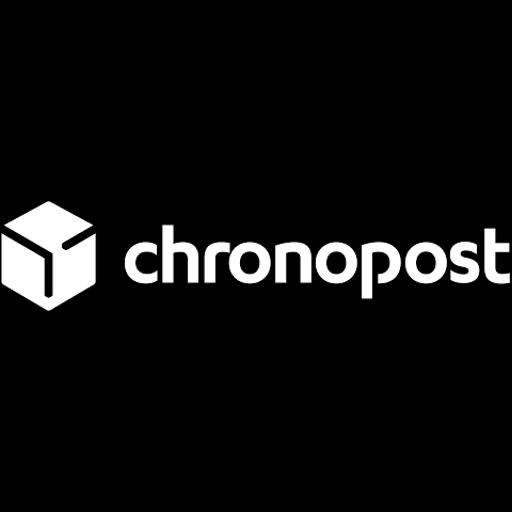Chronopost International: (0, 200, 511, 312)
